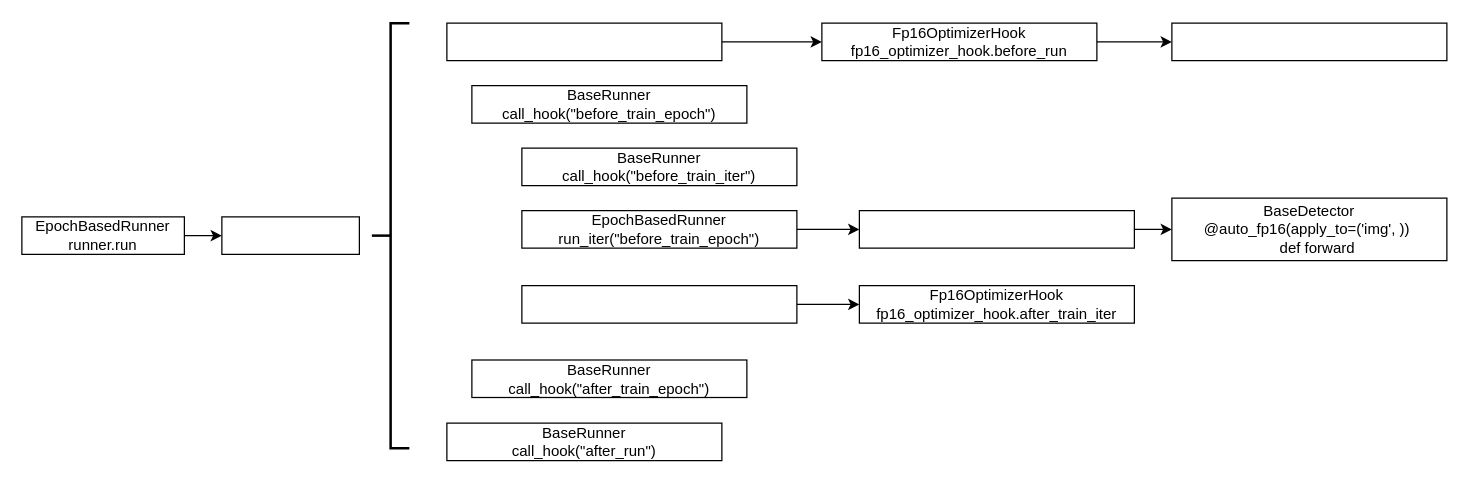
This 1469x483 diagram has some shape labels left out. The centre of each missing label's shape, as x and y in pixels:
BaseDetector self.model.train_step: [996,228]
BaseRunner call_hook("after_train_iter"): [659,303]
BaseRunner call_hook("before_run"): [584,41]
EpochBasedRunner runner.train: [290,235]
wrap_fp16_model: [1309,41]
